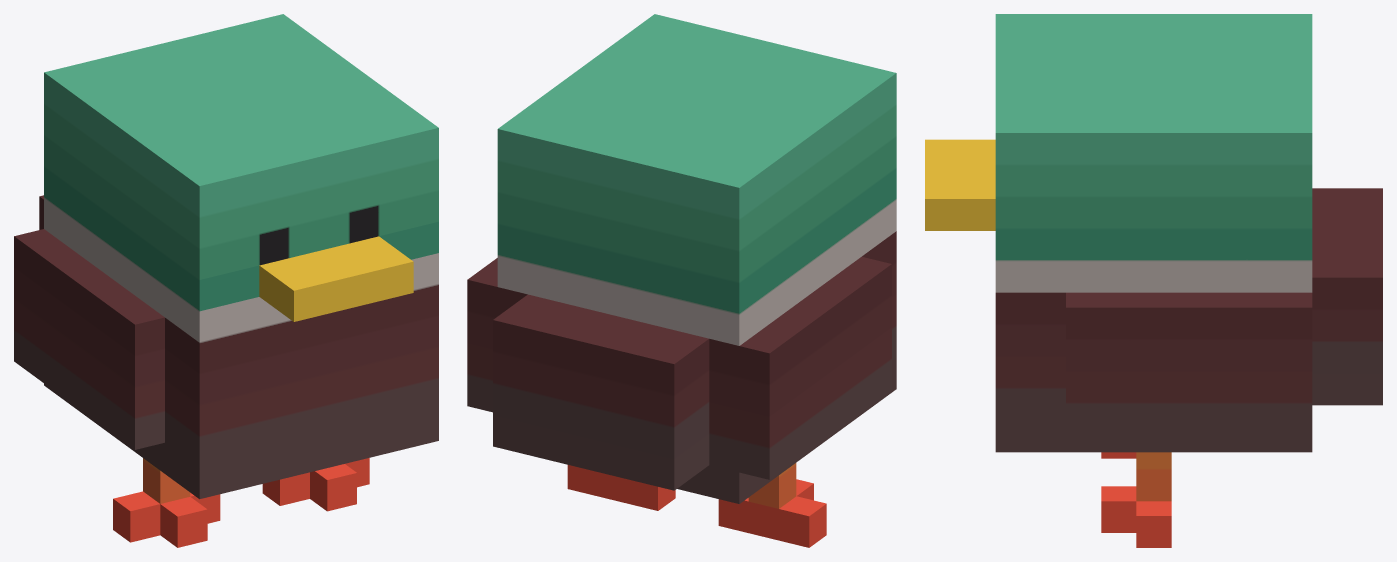
3 views of the same model, side by side, from view 1: azimuth 30°, elevation 25°; view 2: azimuth 150°, elevation 25°; view 3: azimuth 270°, elevation 25° (orthographic).
Parts seen in each view (by area): view 1: cr025; view 2: cr025; view 3: cr025.
Boxes of the visible parts, bbox=[...] form: cr025: bbox=[14, 14, 438, 547]; cr025: bbox=[467, 14, 896, 547]; cr025: bbox=[925, 14, 1382, 547].
Bounding box in the file's own units: 10 × 13 × 13.
